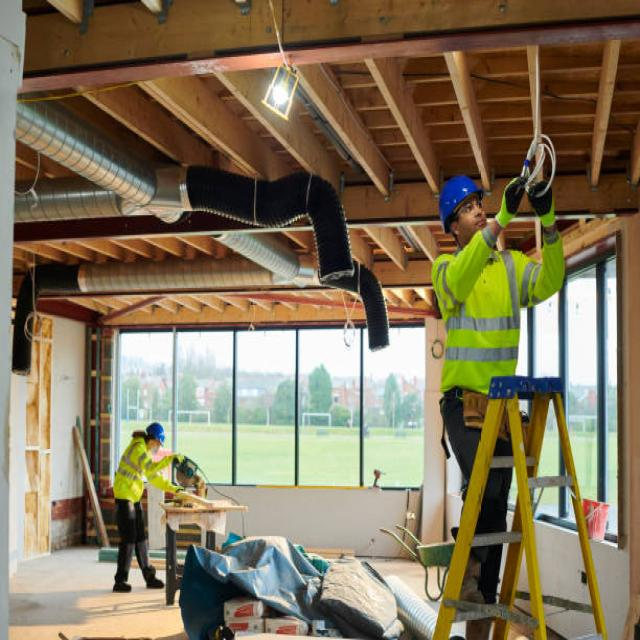Gloves: (495, 169, 530, 228), (530, 170, 558, 234), (167, 451, 184, 472), (171, 478, 183, 506)
helmet: (438, 176, 488, 236), (146, 422, 166, 448)
person: (431, 166, 568, 640), (112, 420, 182, 594)
